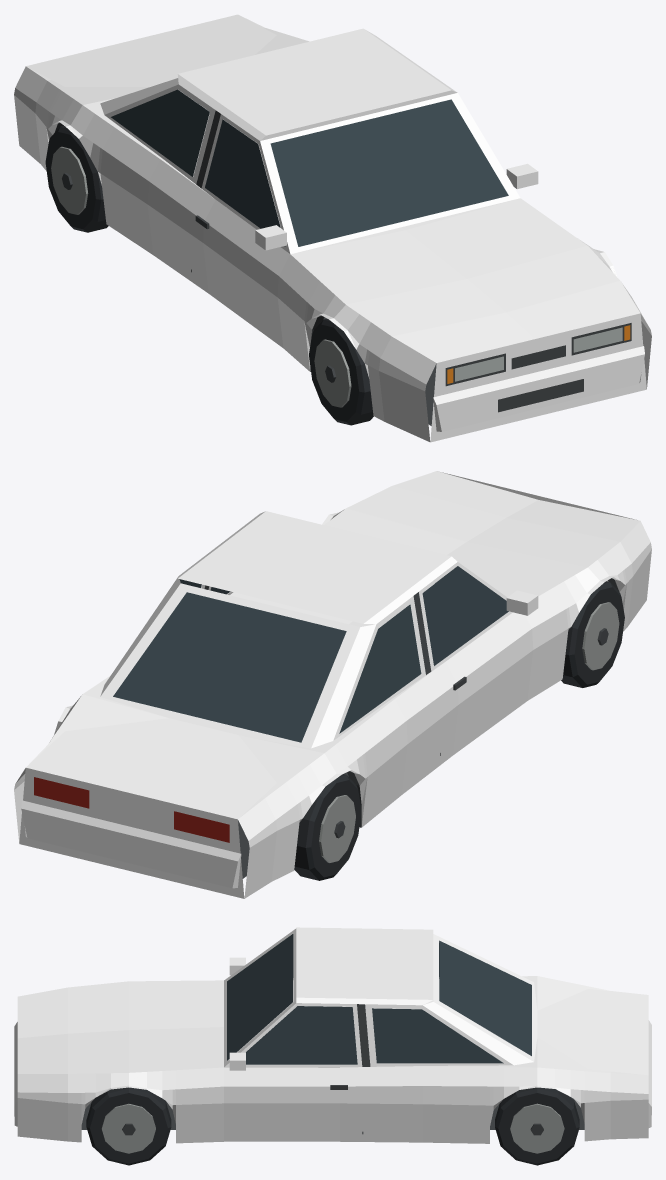
The model's file is kanaya_asakaze_gt.glb.
The picture shows the model from 3 angles, top to bottom: view 1: azimuth 30°, elevation 25°; view 2: azimuth 150°, elevation 25°; view 3: azimuth 270°, elevation 25°; orthographic projection. The views are drawn at different scales.
Visible parts, largest first — view 1: kanaya_asakaze_gt; view 2: kanaya_asakaze_gt; view 3: kanaya_asakaze_gt.
Part boxes in pixels (<box>): kanaya_asakaze_gt: <box>14,14,651,442</box>; kanaya_asakaze_gt: <box>14,471,651,898</box>; kanaya_asakaze_gt: <box>14,927,651,1165</box>.
Bounding box in the file's own units: 1.82 × 1.25 × 4.7.
Materials: 8 (1 with a texture image).
